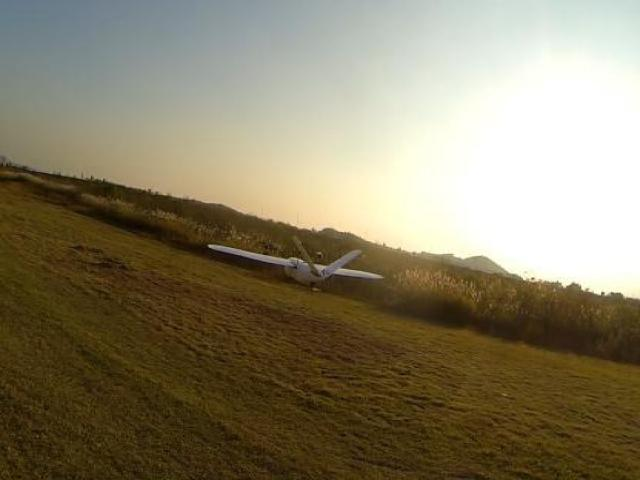uav: (198, 222, 392, 311)
